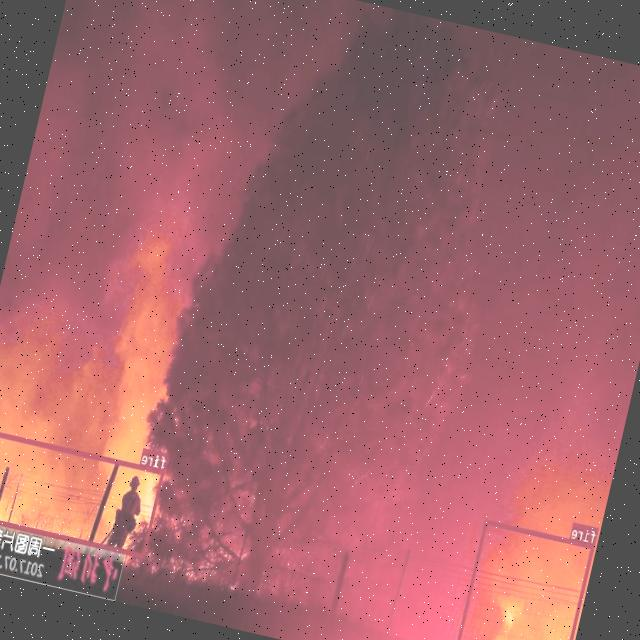fire: (0, 424, 165, 557), (453, 518, 595, 640)
